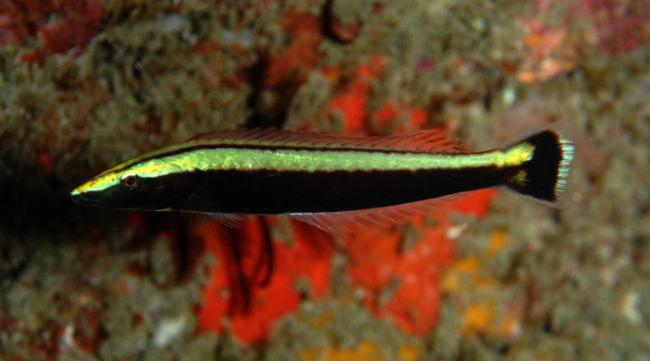fish: (70, 127, 575, 213)
